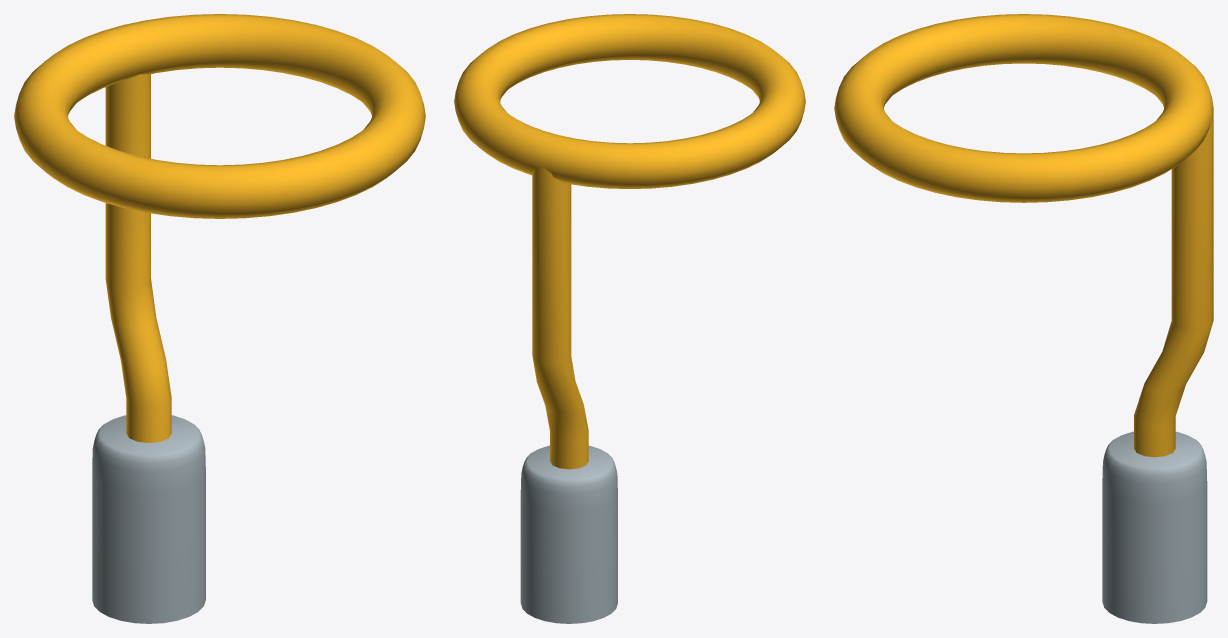
File: hoop_teamYellow-col.glb
3 renders of one model, left to right at view 1: azimuth 30°, elevation 25°; view 2: azimuth 150°, elevation 25°; view 3: azimuth 270°, elevation 25°, orthographic. The views are drawn at different scales.
Parts seen in each view (by area): view 1: hoop_teamYellow-col; view 2: hoop_teamYellow-col; view 3: hoop_teamYellow-col.
Part boxes in pixels (<box>): hoop_teamYellow-col: <box>14,14,425,623</box>; hoop_teamYellow-col: <box>454,14,805,623</box>; hoop_teamYellow-col: <box>834,14,1213,623</box>.
Size of the model in its own units: 2 by 3 by 2.
